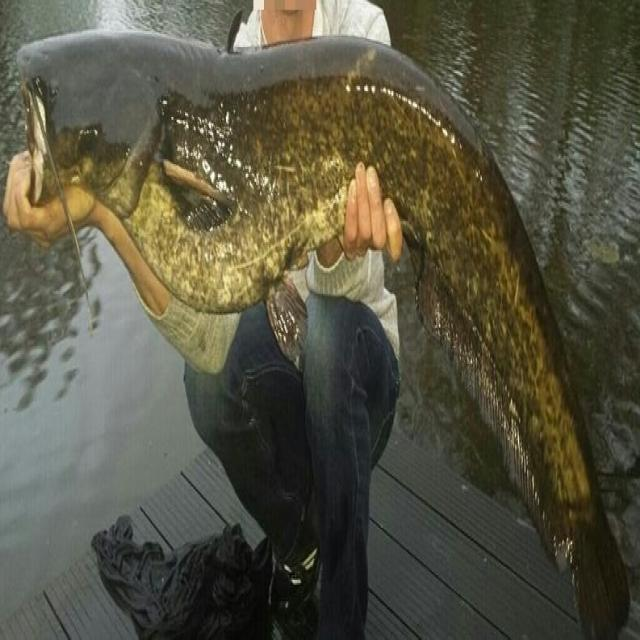Catfish: (2, 27, 633, 616)
